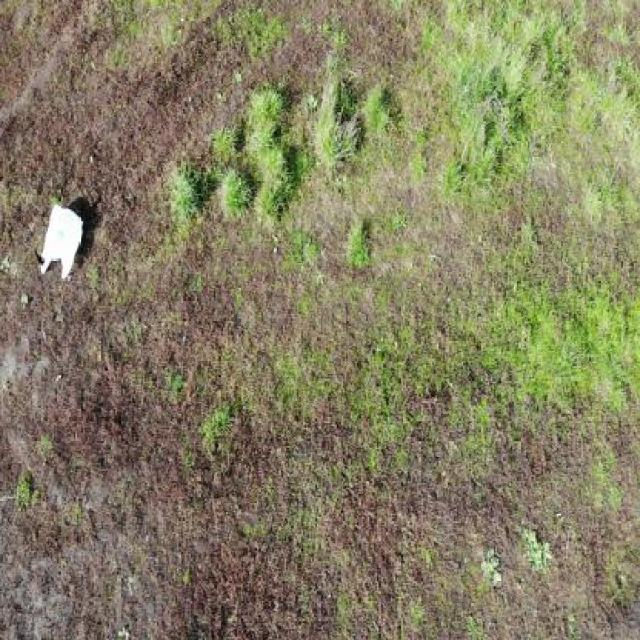Garbage: (40, 204, 84, 279)
